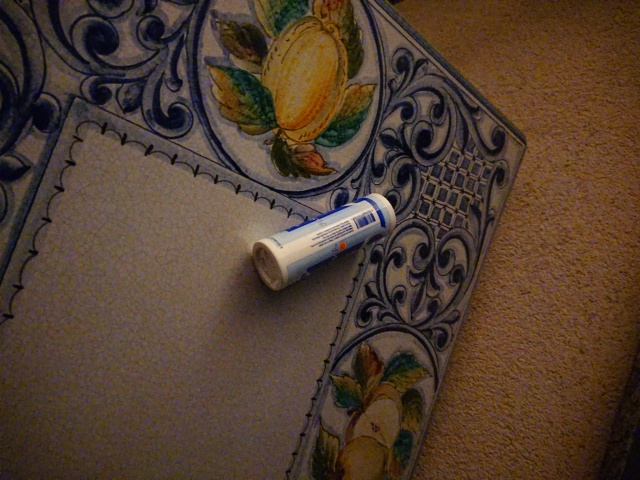Solana Pag Fine Sea Salt 250g: (249, 189, 401, 295)
